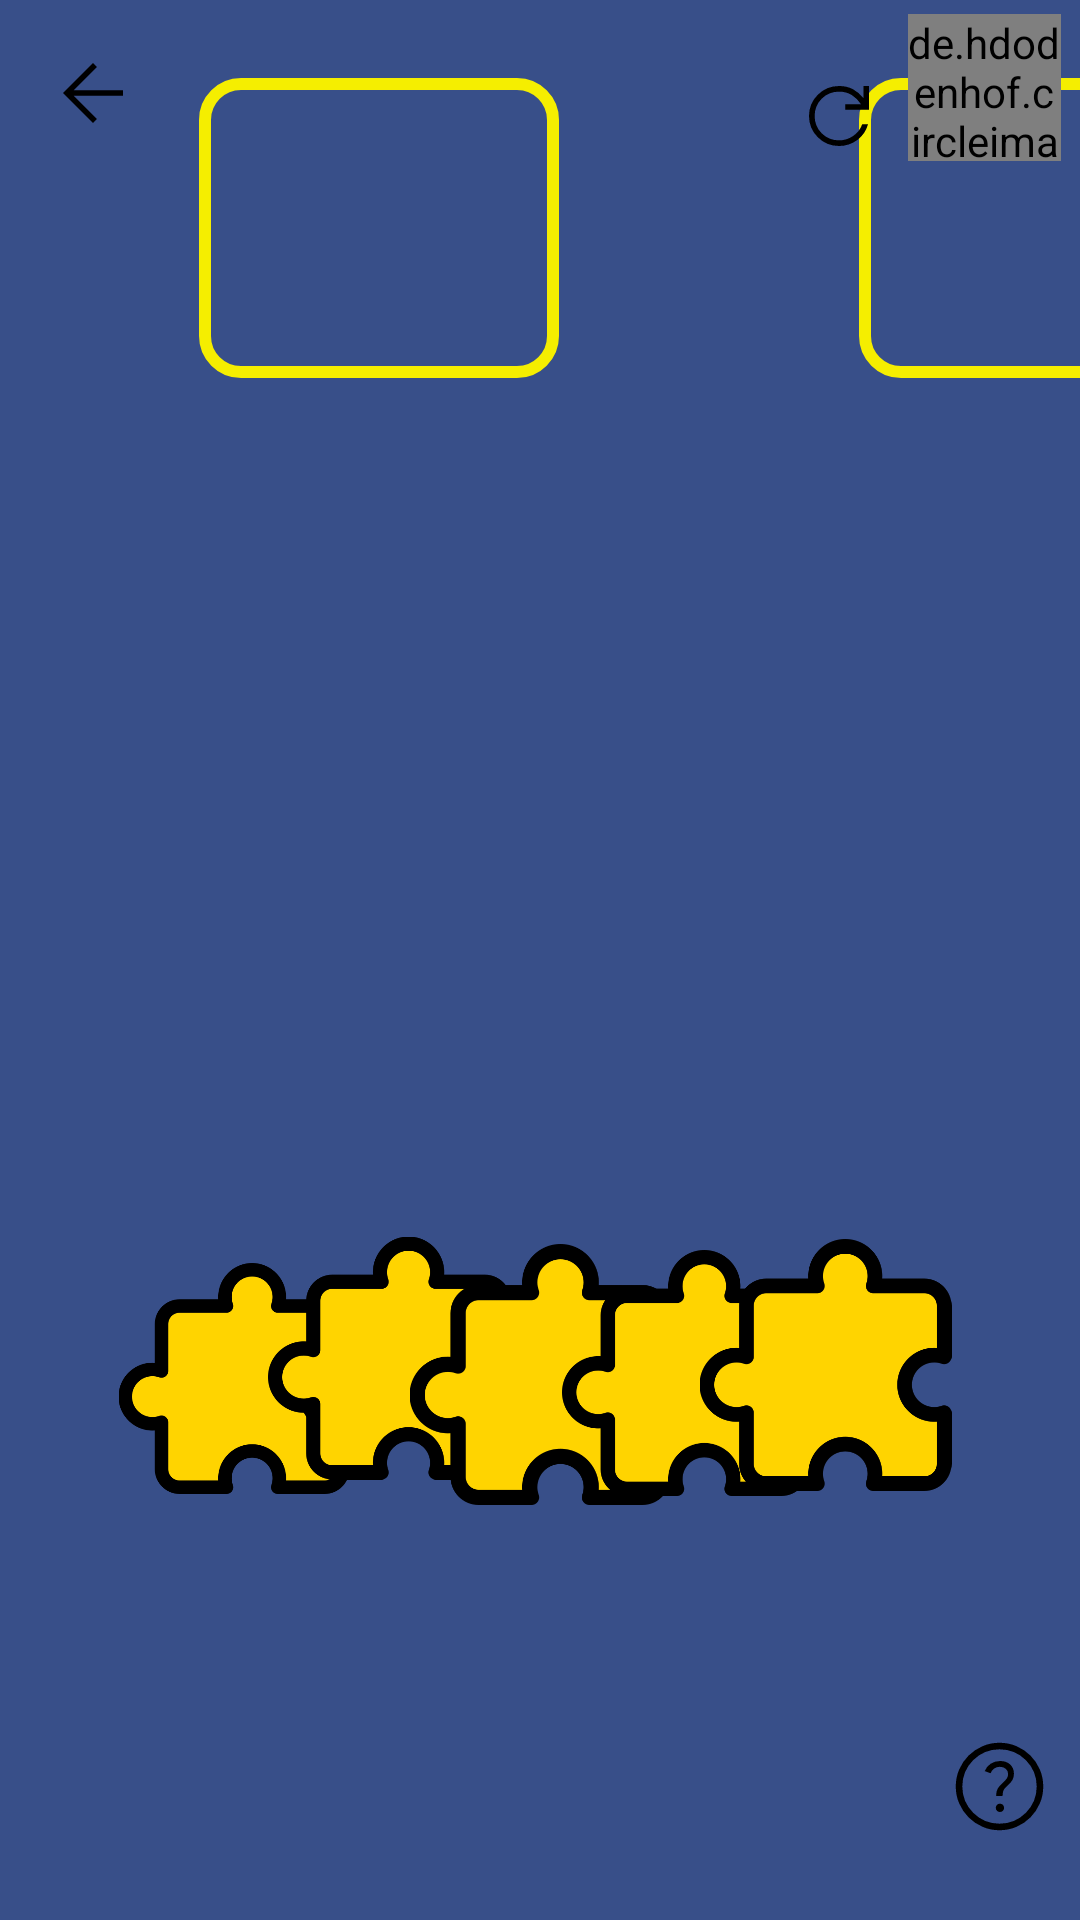

Named icons in this screenshot (1080px x 1920px) and their bounding boxes, (x1,y1,x2,y2):
arrow back android: (63,63,123,123)
help: (955,1742,1044,1831)
